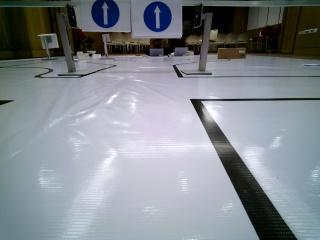straight: (129, 0, 182, 34), (78, 0, 128, 32)
